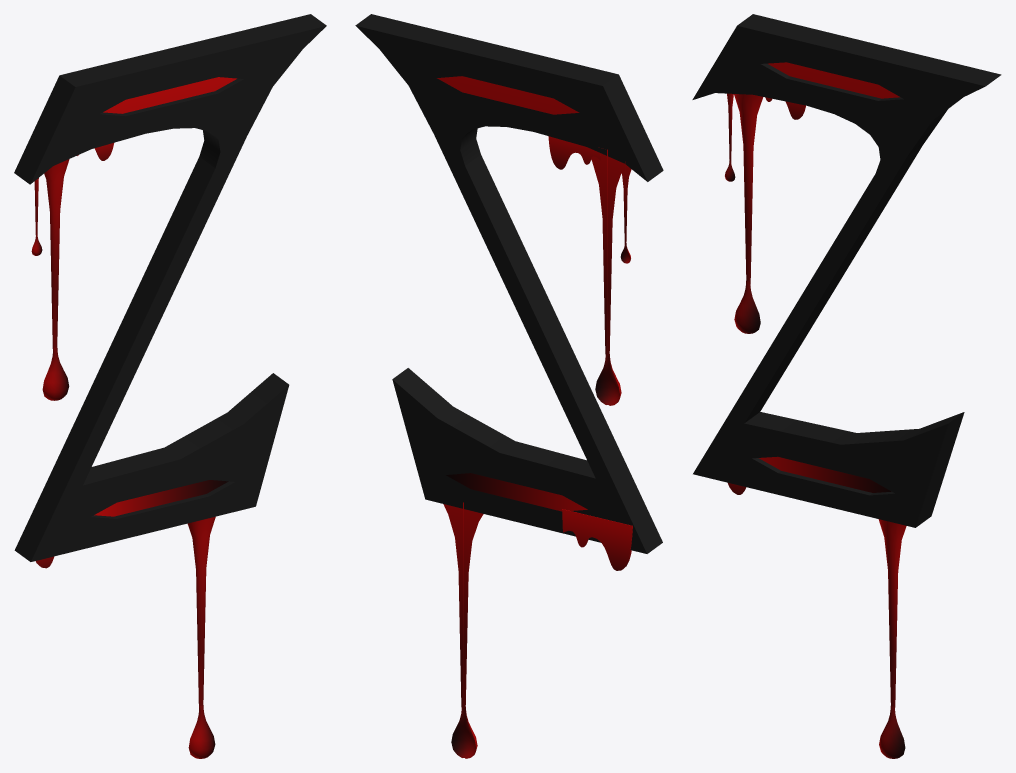
3 views of the same model, side by side, from view 1: azimuth 30°, elevation 25°; view 2: azimuth 150°, elevation 25°; view 3: azimuth 330°, elevation 25° (orthographic).
Parts seen in each view (by area): view 1: Z, Z_Element, Blood_364, Blood_376; view 2: Z, Z_Element, Blood_364, Blood_376, Blood_361, Blood_382, Blood_365; view 3: Z, Z_Element, Blood_376, Blood_364.
Boxes of the visible parts, <box> form: Z: <box>14,14,326,561</box>; Z_Element: <box>94,77,236,516</box>; Blood_364: <box>187,516,215,758</box>; Blood_376: <box>42,159,69,400</box>; Z: <box>355,14,663,553</box>; Z_Element: <box>437,76,587,511</box>; Blood_364: <box>443,502,483,758</box>; Blood_376: <box>591,149,621,405</box>; Blood_361: <box>562,509,632,570</box>; Blood_382: <box>548,136,600,169</box>; Blood_365: <box>617,160,631,263</box>; Z: <box>692,14,1001,527</box>; Z_Element: <box>759,62,899,492</box>; Blood_376: <box>734,94,763,333</box>; Blood_364: <box>878,519,906,758</box>.
Bounding box in the file's own units: 53.1 × 123 × 5.06.
Materials: 2 (1 with a texture image).
